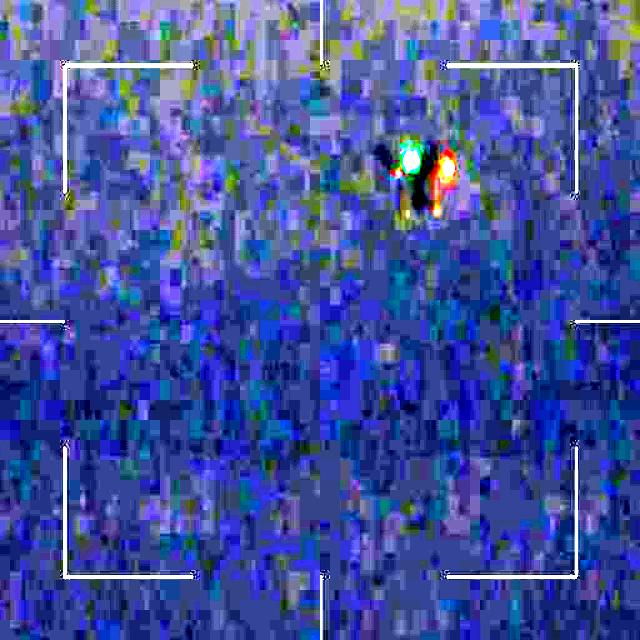bird: (374, 138, 462, 234)
